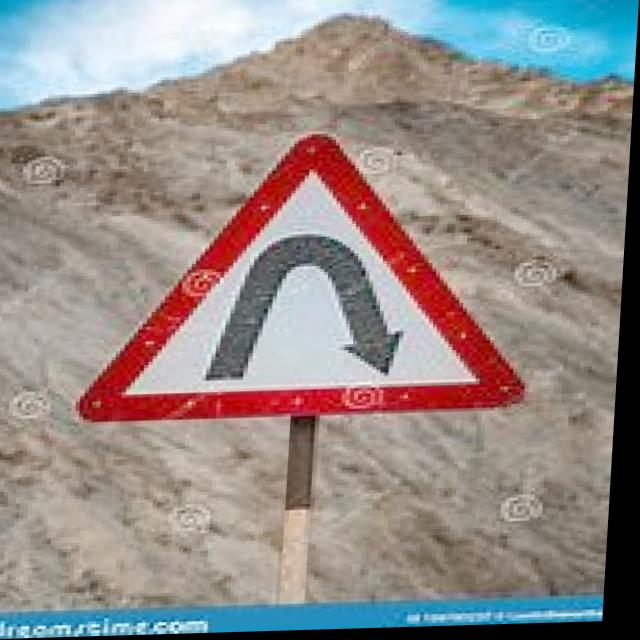RIGHT_HAIR_PIN_BEND: (82, 133, 549, 424)
